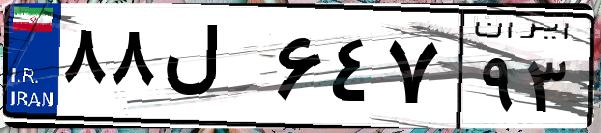3: (525, 38, 570, 115)
4: (330, 28, 385, 110)
6: (270, 28, 330, 110)
7: (385, 28, 445, 110)
8: (57, 26, 110, 100), (110, 28, 158, 98)
9: (475, 38, 525, 113)
ل: (158, 20, 270, 120)
